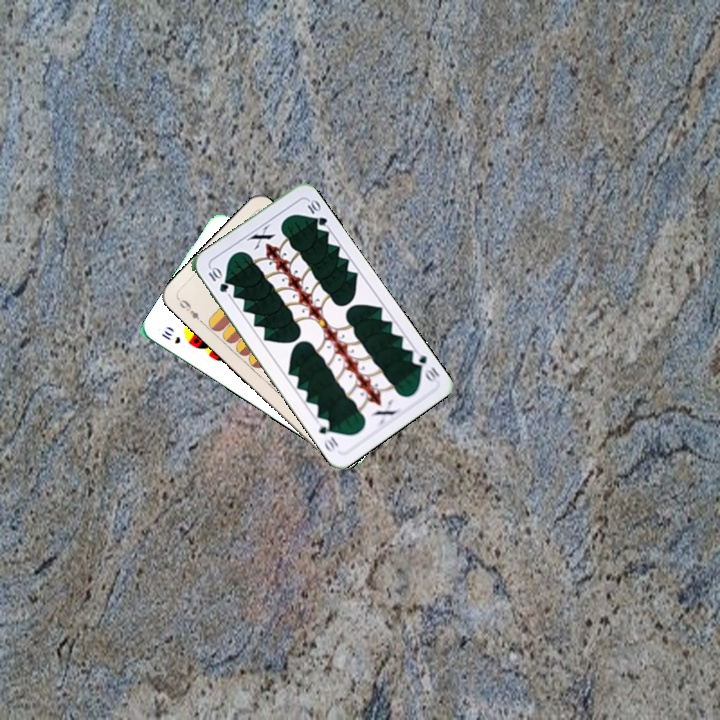E9: (174, 295, 206, 326)
G10: (407, 350, 442, 384), (204, 263, 231, 295)
S10: (157, 326, 183, 346)
